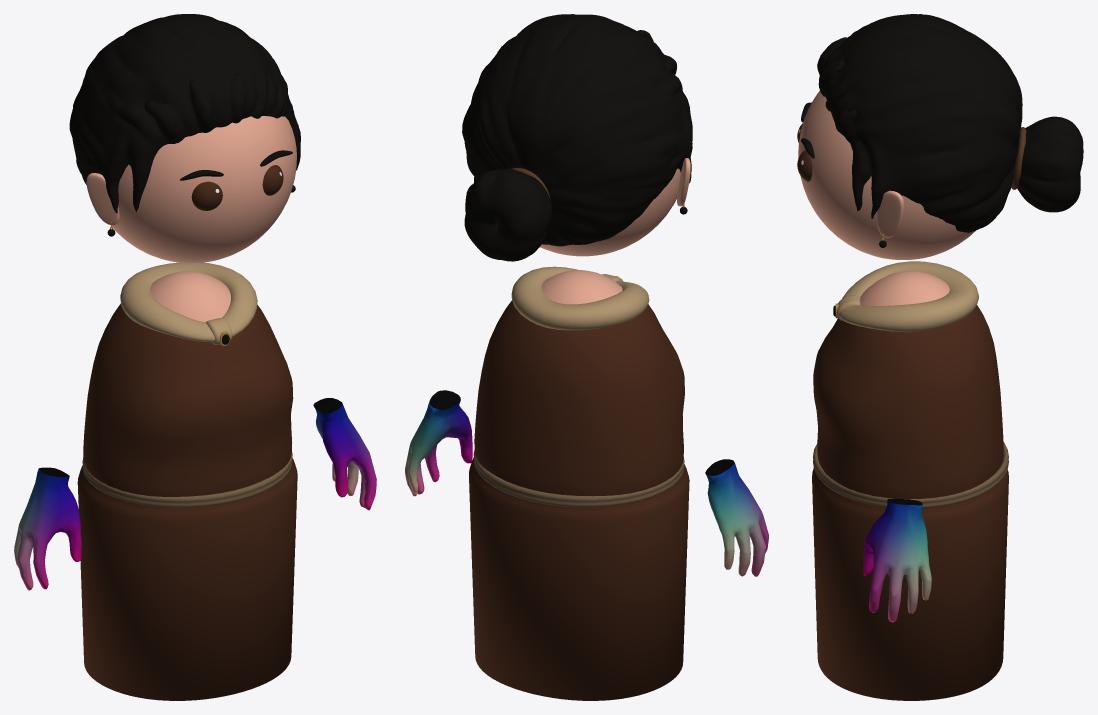
File: ArtemisiaGentileschi.fbx
The picture shows the model from 3 angles, left to right: view 1: azimuth 30°, elevation 25°; view 2: azimuth 150°, elevation 25°; view 3: azimuth 270°, elevation 25°; orthographic projection.
Parts seen in each view (by area): view 1: Body.015, Sphere.002, Head.009, Hands.009, Torus.001, Body.013, Torus.002, Eyes.009, Cube.010; view 2: Body.015, Sphere.002, Hands.009, Torus.001, Head.009, Torus.002, Body.013; view 3: Body.015, Sphere.002, Head.009, Hands.009, Torus.001, Body.013, Torus.002, Cube.010.
Boxes of the visible parts, x1=… form: Body.015: x1=77, y1=303, x2=297, y2=700; Sphere.002: x1=69, y1=14, x2=300, y2=213; Head.009: x1=110, y1=116, x2=296, y2=263; Hands.009: x1=14, y1=398, x2=376, y2=590; Torus.001: x1=120, y1=262, x2=257, y2=342; Body.013: x1=150, y1=271, x2=230, y2=322; Torus.002: x1=82, y1=452, x2=292, y2=507; Eyes.009: x1=191, y1=165, x2=283, y2=210; Cube.010: x1=86, y1=124, x2=298, y2=225; Body.015: x1=469, y1=300, x2=689, y2=700; Sphere.002: x1=462, y1=14, x2=692, y2=261; Hands.009: x1=405, y1=390, x2=768, y2=576; Torus.001: x1=511, y1=266, x2=649, y2=330; Head.009: x1=540, y1=168, x2=680, y2=256; Torus.002: x1=473, y1=450, x2=684, y2=507; Body.013: x1=541, y1=270, x2=622, y2=304; Body.015: x1=812, y1=305, x2=1008, y2=700; Sphere.002: x1=817, y1=14, x2=1083, y2=232; Head.009: x1=798, y1=90, x2=975, y2=259; Hands.009: x1=863, y1=498, x2=931, y2=622; Torus.001: x1=839, y1=261, x2=978, y2=332; Body.013: x1=860, y1=271, x2=949, y2=305; Torus.002: x1=813, y1=442, x2=1008, y2=508; Cube.010: x1=876, y1=190, x2=904, y2=237.
Size of the model in its own units: 383 by 657 by 269.
